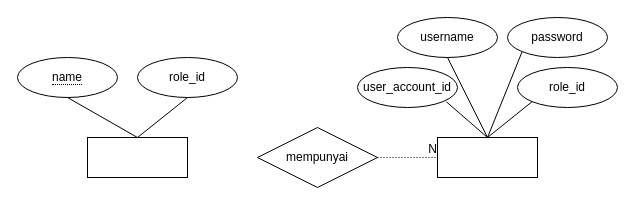
Some shapes in this 635 by 205 pixel diagram are drawn without their labels. Each missing label, with the centre of its shape:
Role: pixel 137 157
user_account: pixel 487 157
